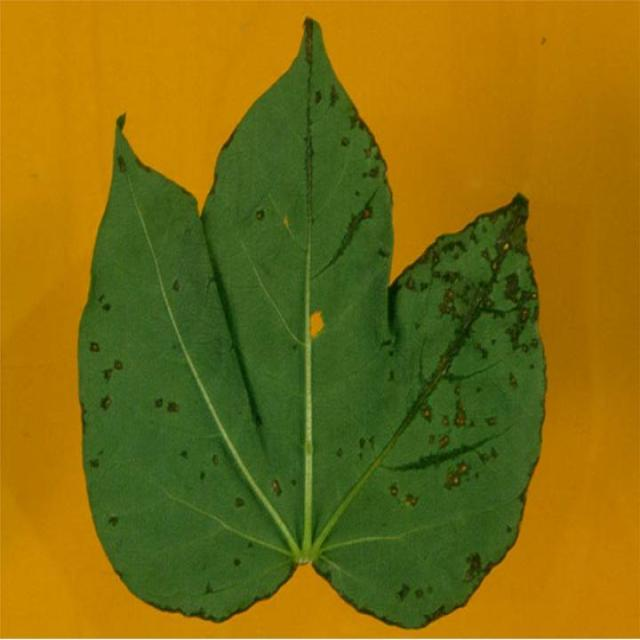Bacterial Blight: (376, 214, 543, 443)
